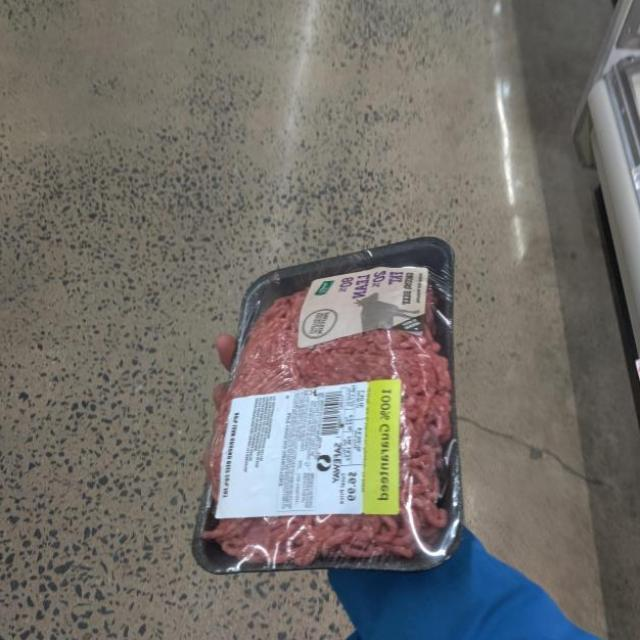Meat: (194, 234, 462, 579)
